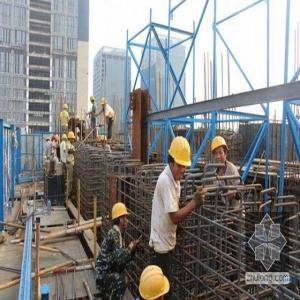yellow: (140, 265, 171, 300), (169, 137, 192, 180), (111, 201, 130, 232), (211, 134, 228, 166), (101, 135, 108, 148), (68, 131, 75, 144), (101, 97, 108, 109), (90, 96, 96, 105), (62, 134, 68, 143), (63, 104, 69, 112), (55, 134, 60, 143)
